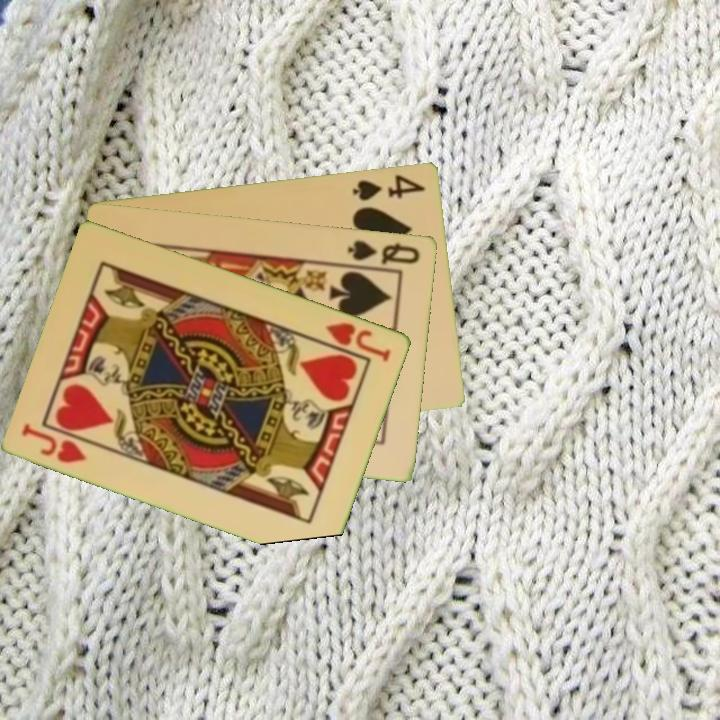4s: (349, 170, 428, 203)
Jh: (313, 318, 394, 364), (18, 420, 91, 466)
Qs: (345, 236, 423, 267)
